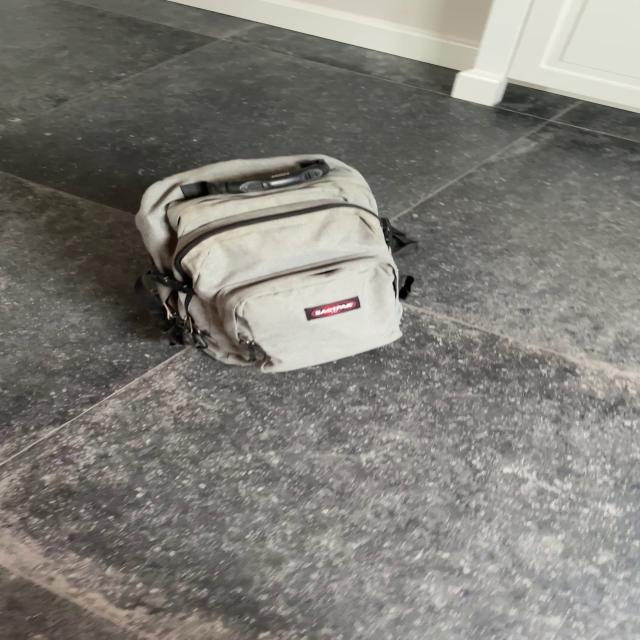backpack: (121, 146, 418, 377)
